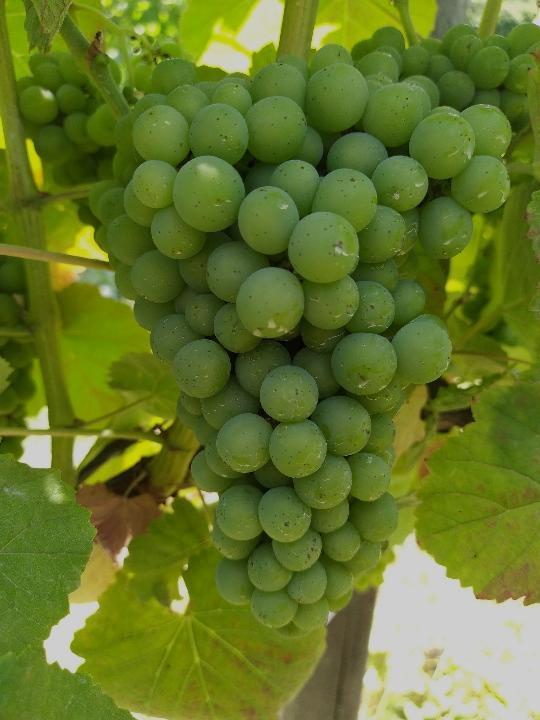grape: (98, 46, 511, 635)
